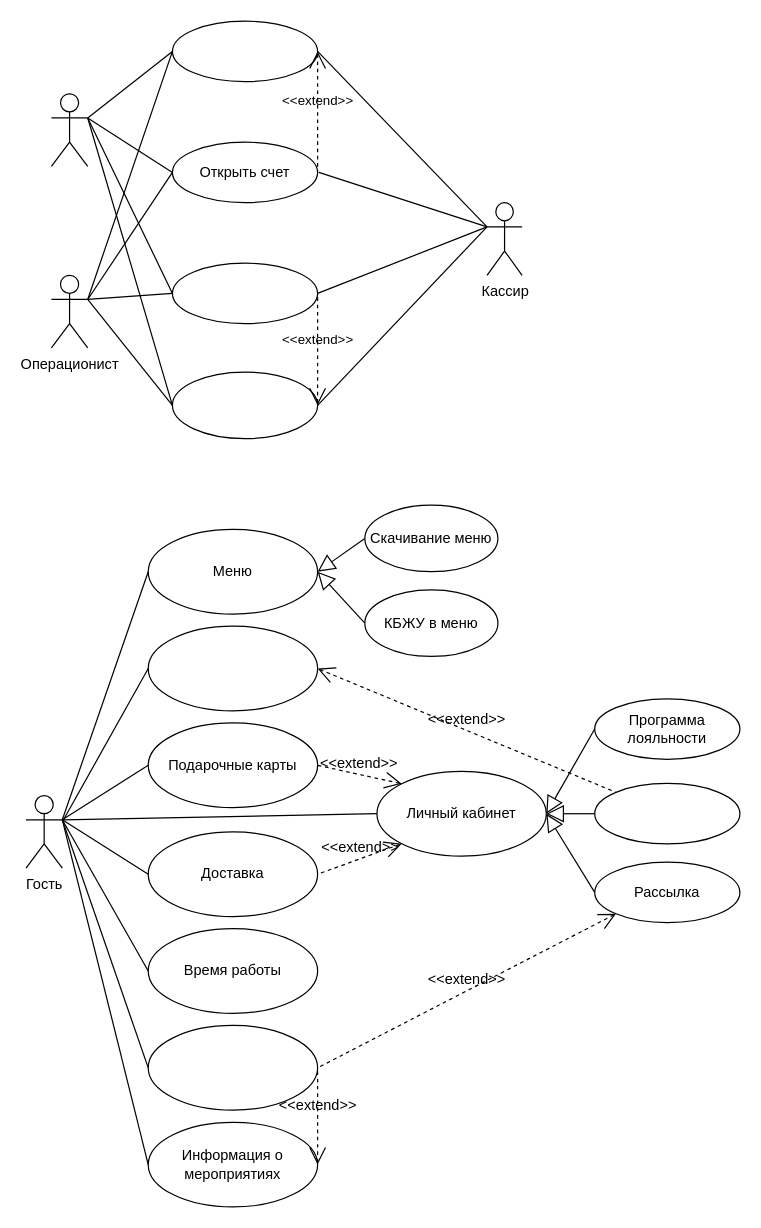
Image size: 761x1228. Some labels were removed from this diagram. The shapes that lost their labels are listed below. From the top down, each one's box as (x1, y1, x2, y2) in pixels, then its label:
(171, 20, 318, 82): Пополнить счет
(50, 93, 88, 166): Клиент банка
(171, 262, 318, 324): Закрыть счет
(171, 371, 318, 439): Снять со счета
(147, 625, 318, 711): Контакты и помощь
(594, 782, 740, 844): История покупок
(147, 1024, 318, 1110): Ссылка на социальные сети
